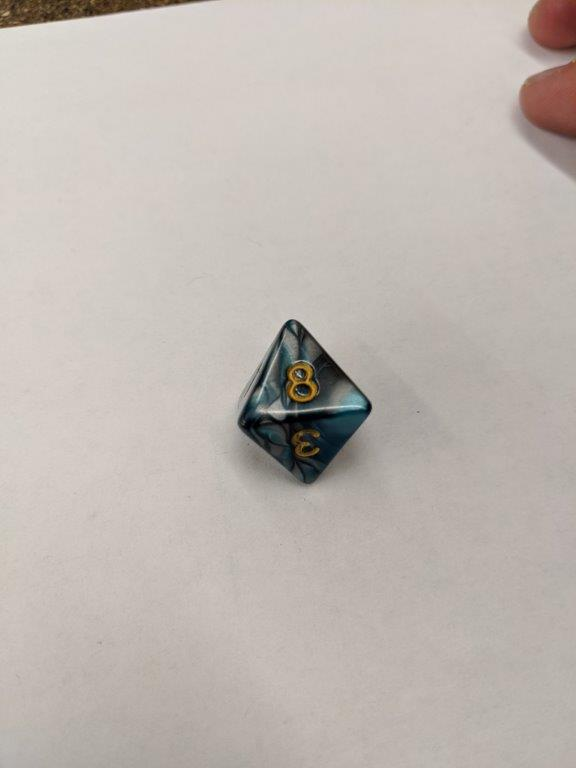d8-8: (234, 318, 375, 490)
